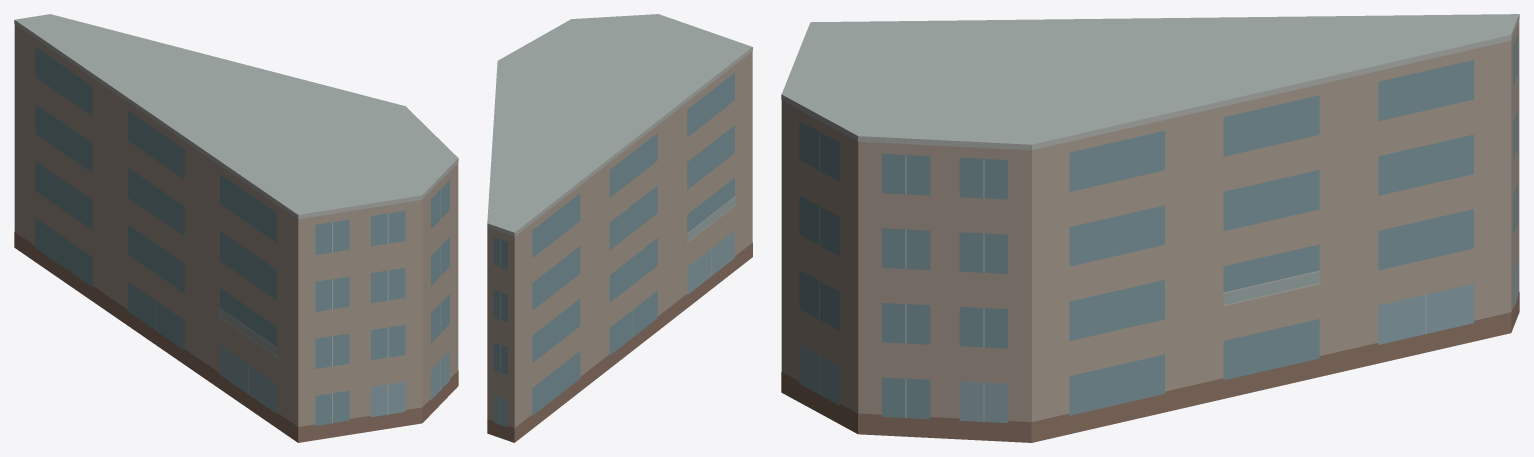
File: survey-upis-32670015.glb
The picture shows the model from 3 angles, left to right: view 1: azimuth 30°, elevation 25°; view 2: azimuth 150°, elevation 25°; view 3: azimuth 270°, elevation 25°; orthographic projection. The views are drawn at different scales.
Visible parts, largest first — view 1: survey-upis-32670015.tmp; view 2: survey-upis-32670015.tmp; view 3: survey-upis-32670015.tmp.
Part boxes in pixels (left/top/right/bottom): survey-upis-32670015.tmp: left=14, top=14, right=458, bottom=442; survey-upis-32670015.tmp: left=487, top=14, right=752, bottom=442; survey-upis-32670015.tmp: left=781, top=14, right=1519, bottom=442.
Bounding box in the file's own units: 12.04 × 12.8 × 28.72.
